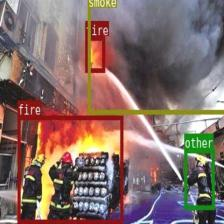fire: (17, 116, 123, 224), (85, 36, 104, 72)
smoke: (87, 0, 224, 113)
